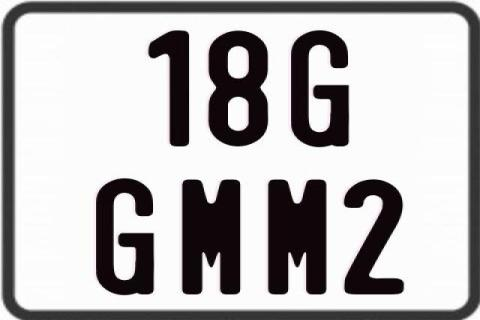0: (207, 28, 272, 145), (342, 177, 404, 297), (145, 30, 191, 146)
G: (290, 30, 349, 152), (96, 178, 155, 298)
M: (266, 178, 326, 296), (182, 178, 240, 298)
